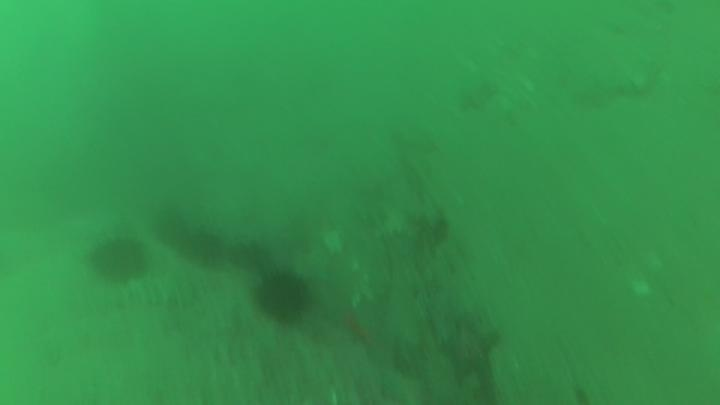echinus: (250, 266, 315, 327), (85, 231, 151, 287), (180, 225, 228, 270), (149, 204, 193, 251), (230, 237, 275, 275)
holothurian: (118, 273, 200, 311)
starfish: (436, 314, 503, 387)
